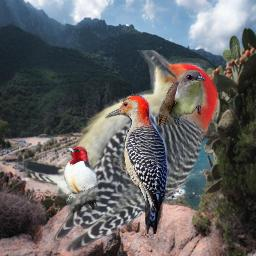Cuckoo: (158, 70, 206, 125)
Woodpecker: (15, 50, 219, 253), (105, 94, 168, 234), (62, 146, 99, 221)
